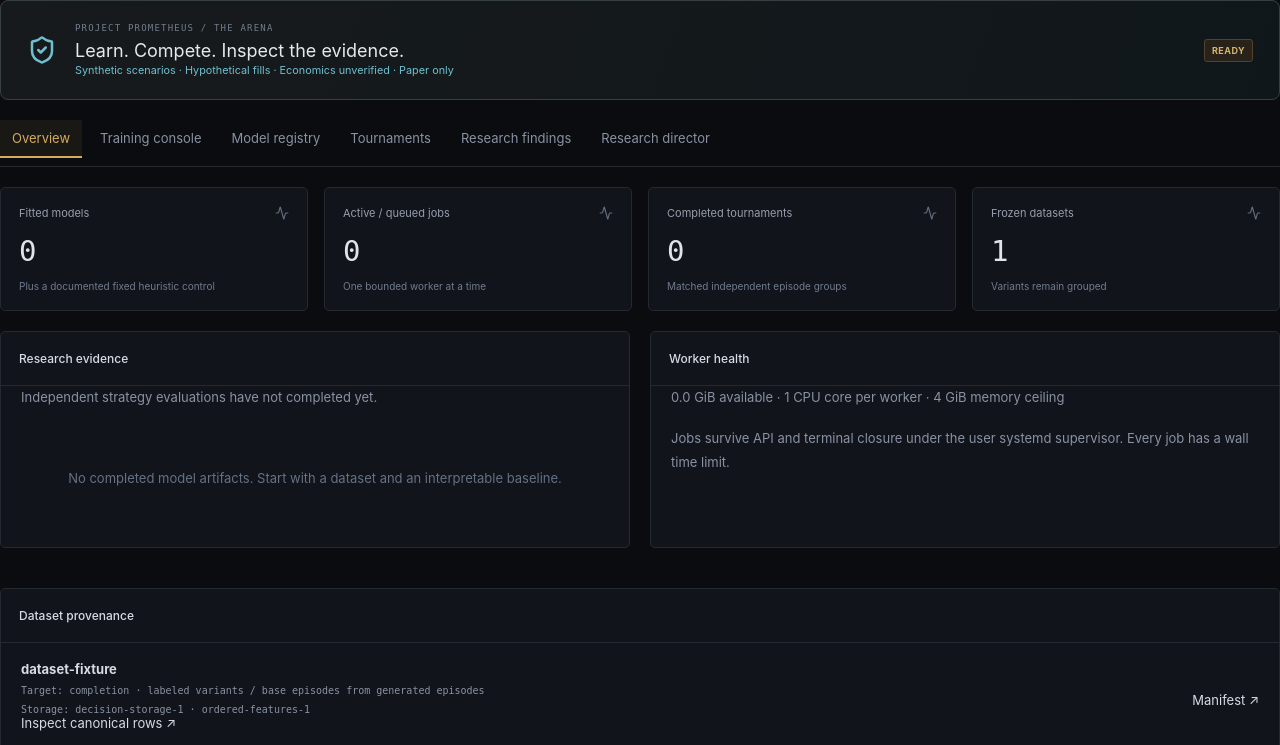
proposes an evidence-bound question and launches only its frozen plan
Click the tab "Research director": x=656, y=139 [589,120,722,158]
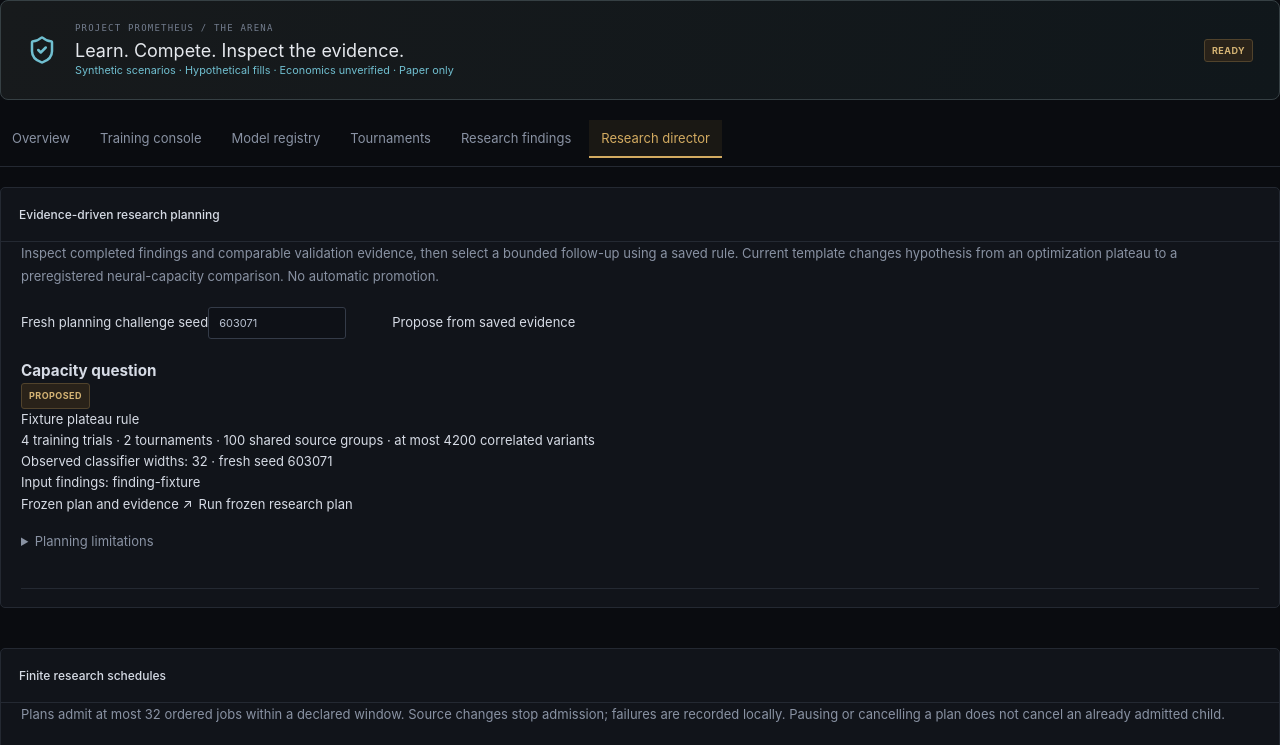
Check: the text "Fixture plateau rule" is shown, box [21,412,139,428]
Check: the text "4 training trials" shows "100 shared source groups", box [21,432,595,448]
Click the button "Propose from saved evidence": x=484, y=322 [386,313,581,331]
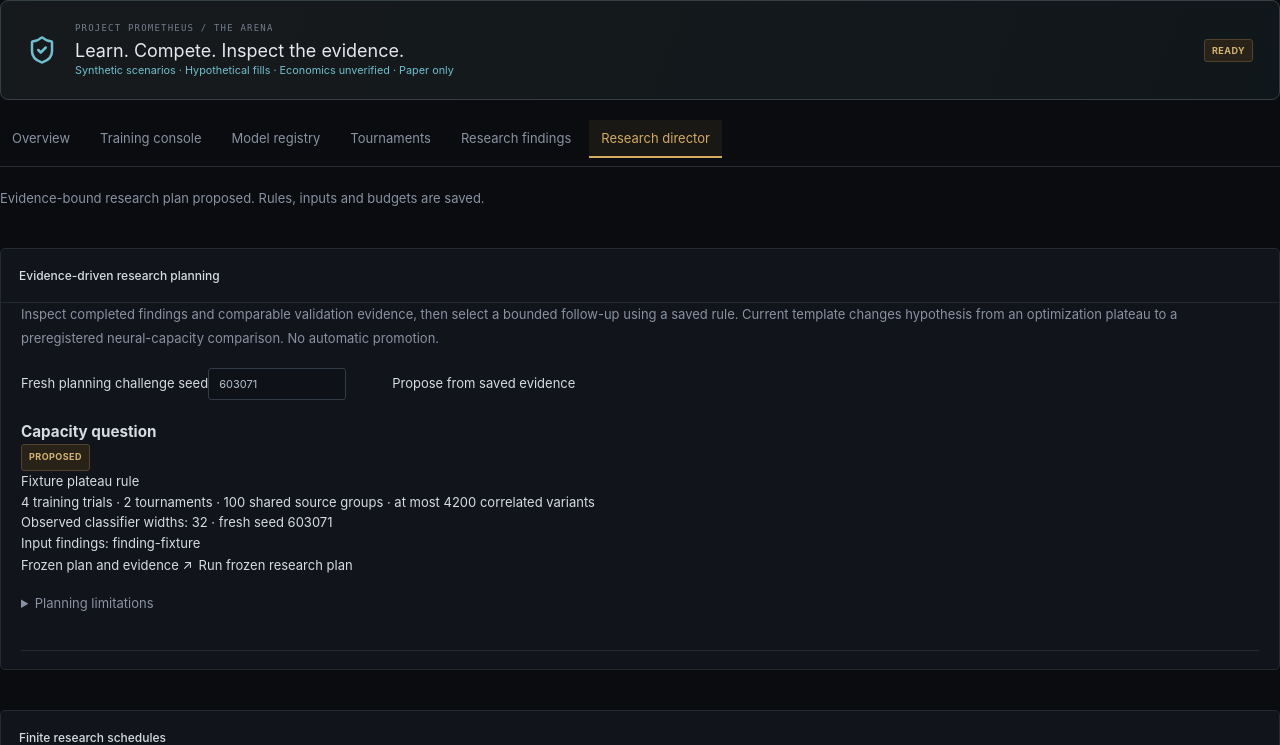
Check: the text "Evidence-bound research plan proposed. Rules, inputs and budgets are saved." is shown, box [0,190,485,206]
Click the button "Run frozen research plan": x=276, y=566 [193,554,359,577]
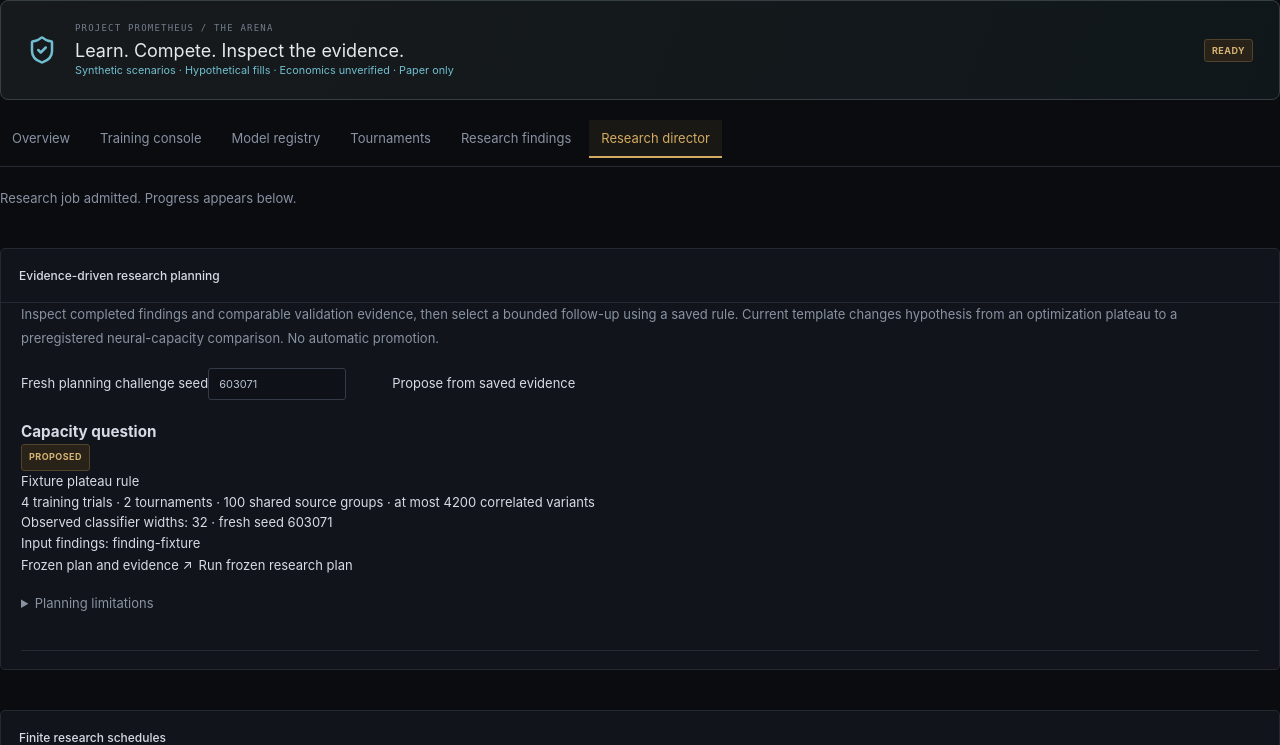
Check: the text "Research job admitted. Progress appears below." is shown, box [0,190,296,206]
